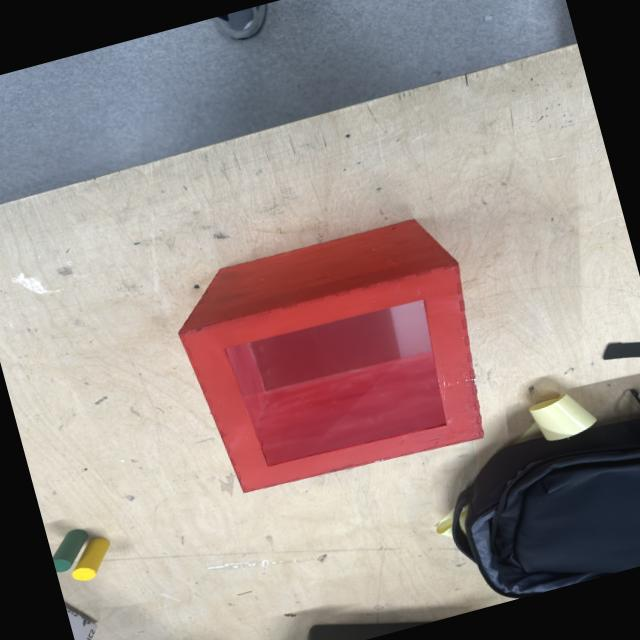red_bin: (164, 207, 506, 508)
